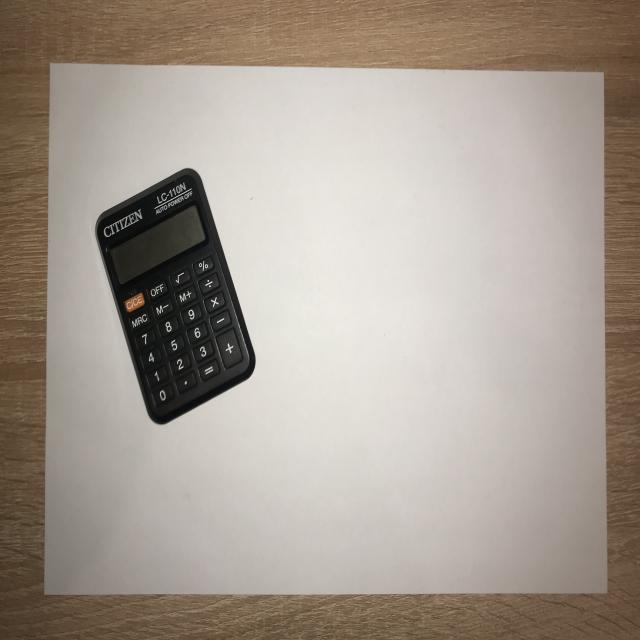calculator: (92, 162, 260, 431)
